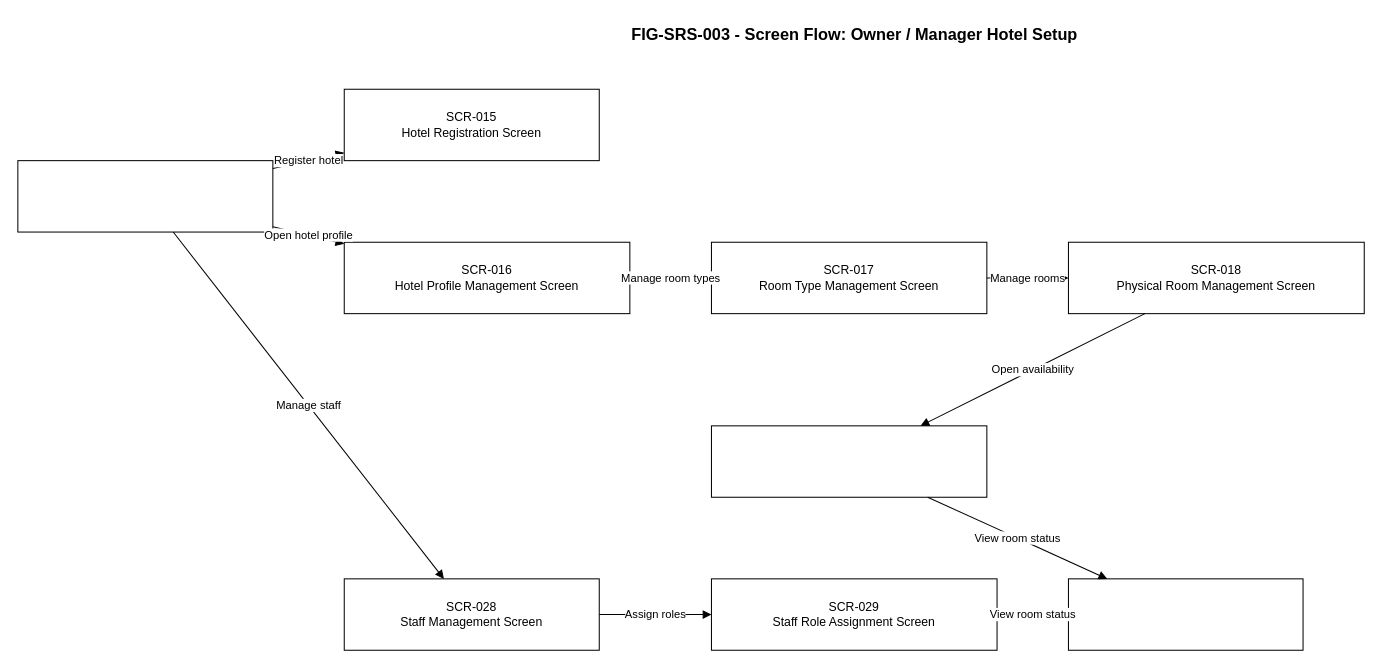
Image size: 1382x668. Some labels were removed from this diagram. The box of each missing label's shape, as (x1, y1, x2, y2) in pixels:
SCR-014 Owner / Manager Dashboard: (17, 160, 273, 232)
SCR-019 Availability Calendar Screen: (710, 425, 987, 497)
SCR-035 Room Status Board: (1067, 578, 1303, 650)
